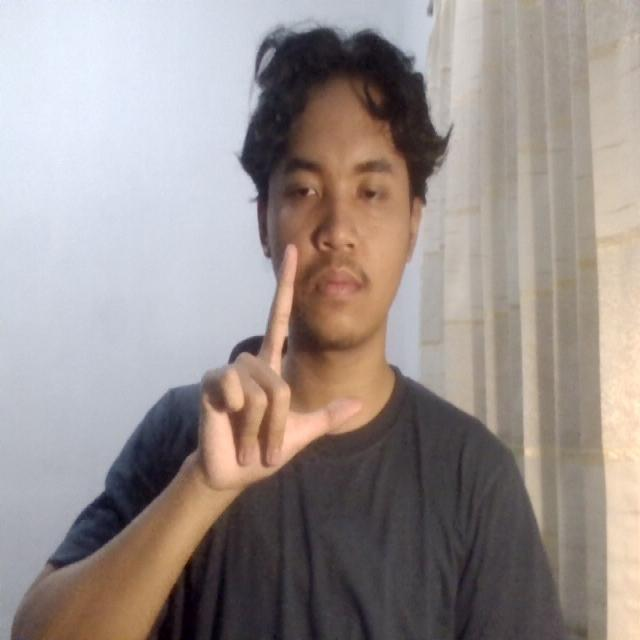I: (168, 224, 380, 507)
